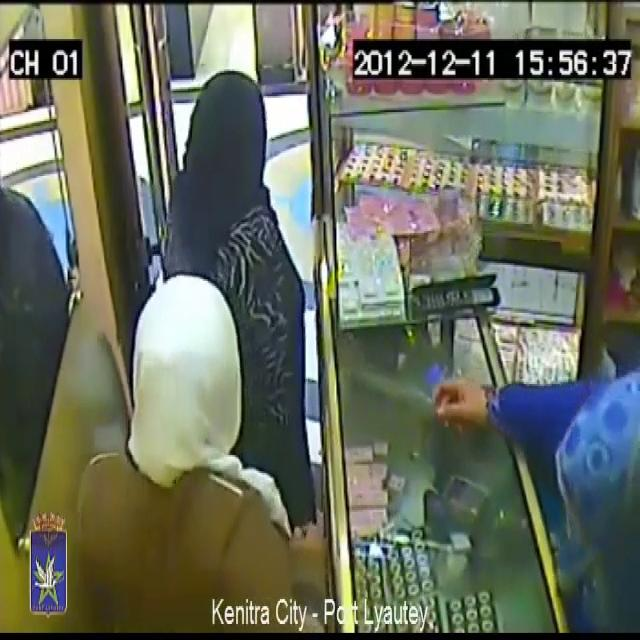normal: (33, 265, 269, 640), (145, 12, 306, 386), (479, 283, 640, 640)
